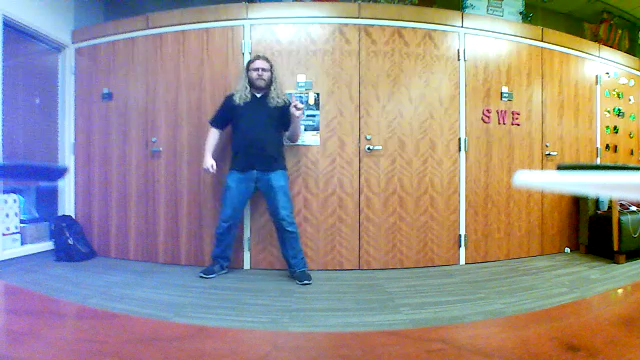up: (288, 91, 306, 119)
